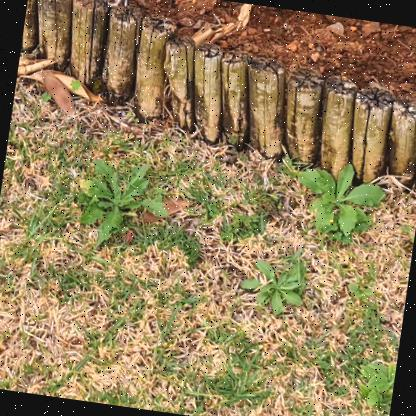Weeds: (70, 154, 175, 253), (289, 155, 391, 246), (237, 258, 309, 319), (351, 354, 397, 415), (345, 279, 375, 303)
